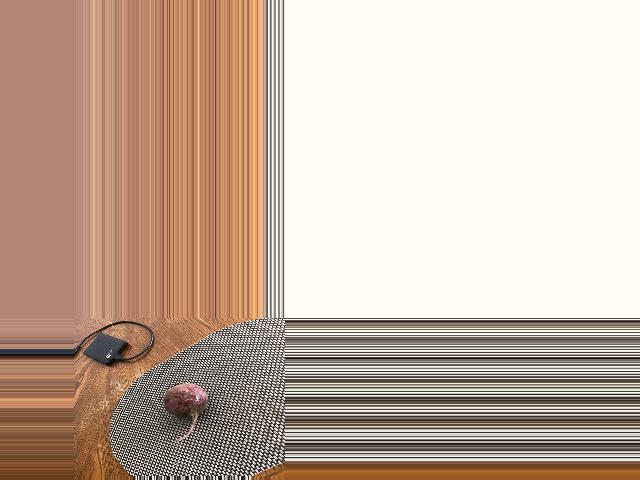beet: (163, 384, 207, 442)
